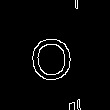O_N: (31, 28, 79, 82)
